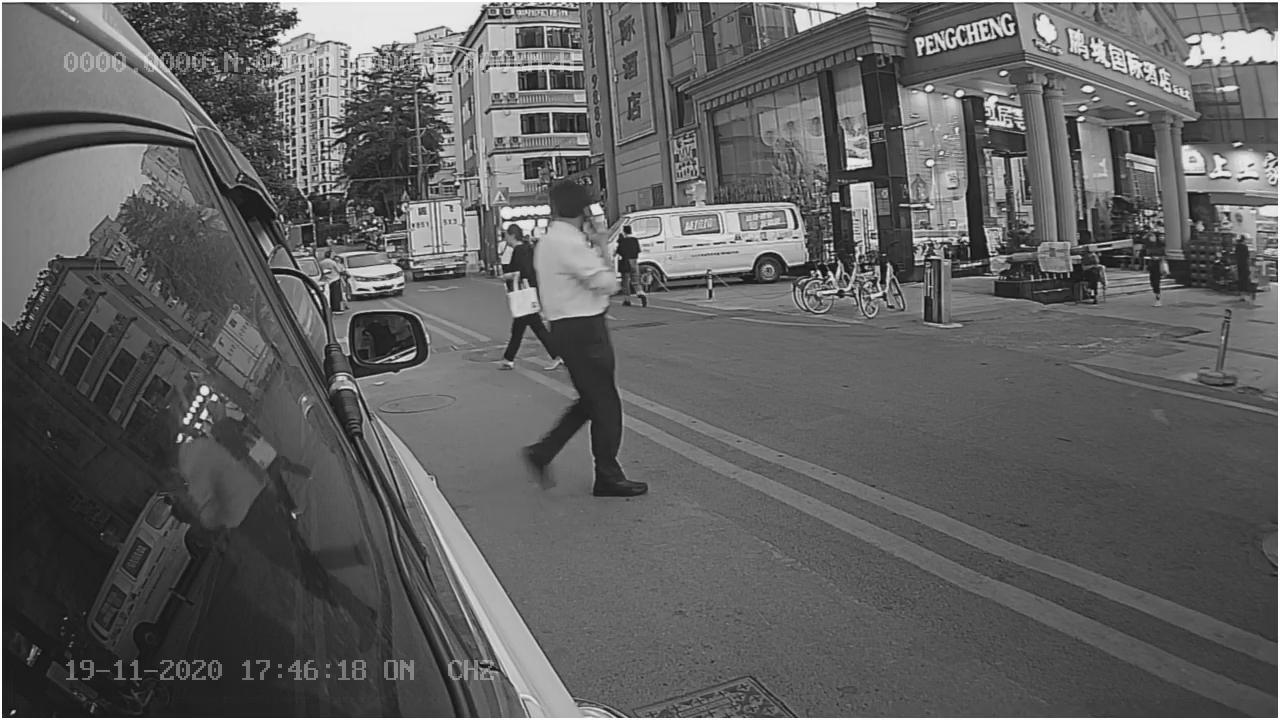person: (518, 180, 657, 503)
